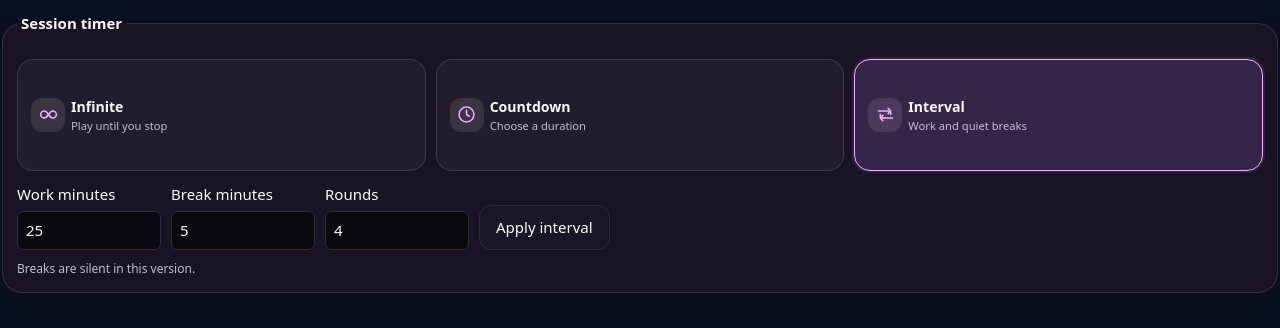
Test case: SessionTypeSelector › validates interval fields and explains silent breaks
Check: the text "Breaks are silent in this version." is shown, box 17,260 -> 195,276
Replace the text in the number field named "Interval rounds" with "13" at (397, 230), box 325,211 -> 469,250
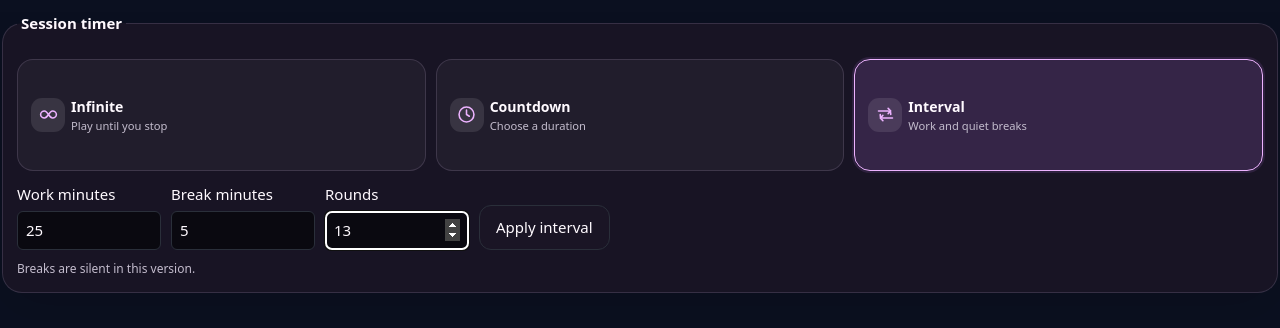
Click the button "Apply interval" at (544, 227), box 479,205 -> 610,250
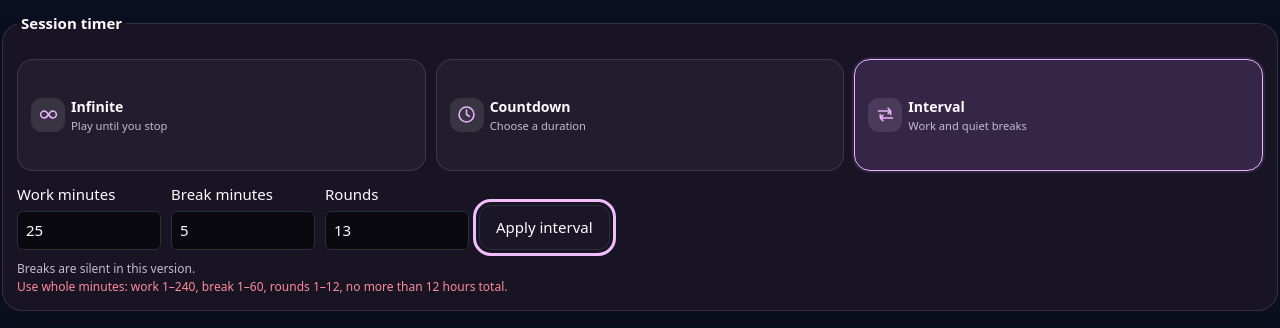
Check: the message shows "rounds 1–12", box 17,278 -> 508,294
